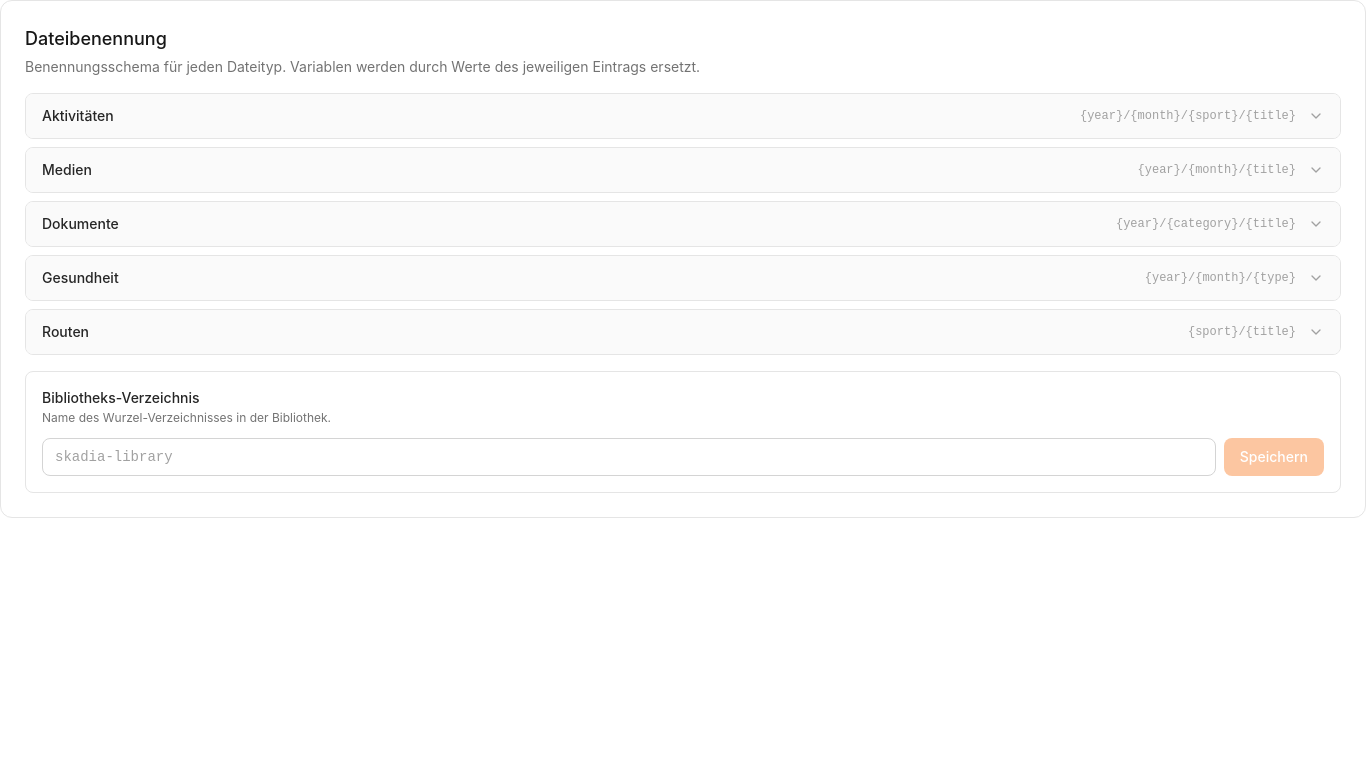
FileSchemaSettings — editable state from context › disables schema inputs when editable=false (admin_locked reason)
Note: Open a section by clicking its header via fireEvent (triggers React event system)
Click the button "Aktivitäten": (78, 116) [26,94,1340,138]
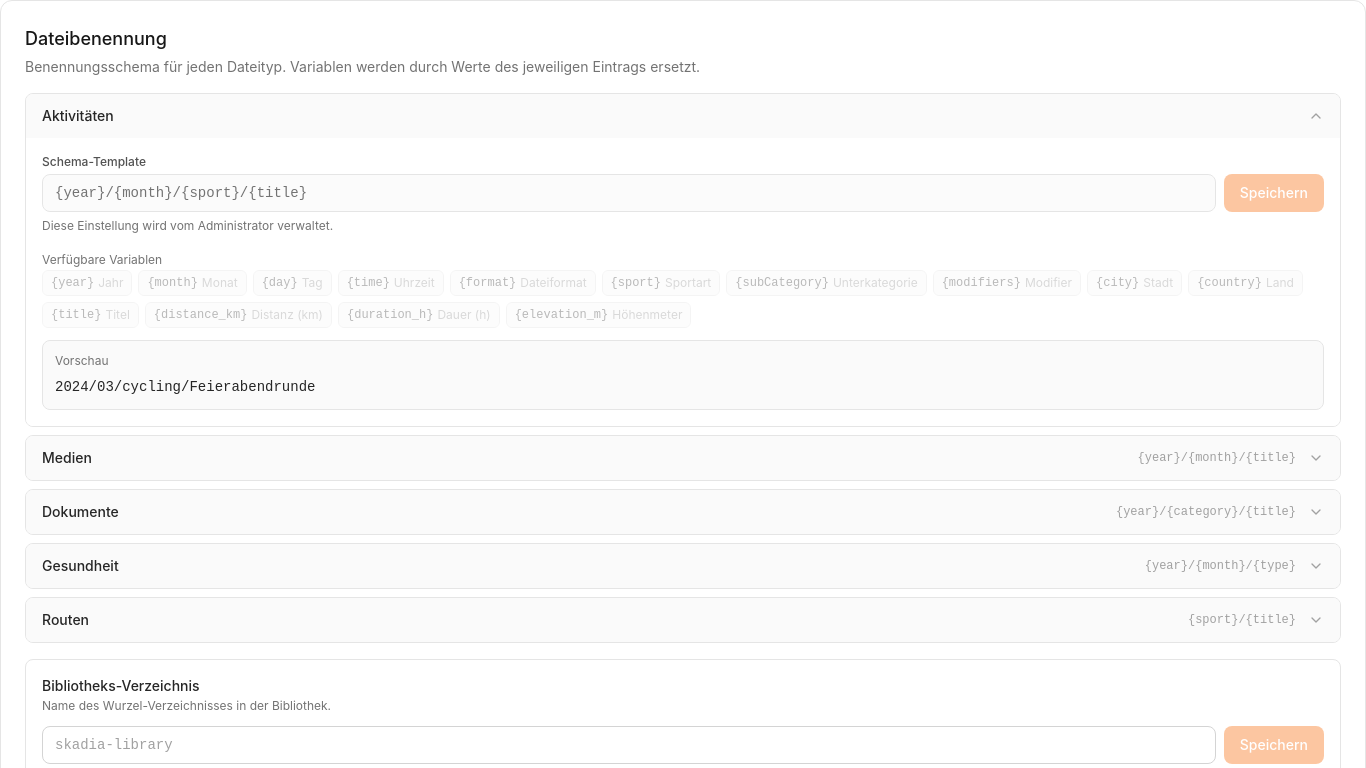
Result: the text "Diese Einstellung wird vom Administrator verwaltet." is shown at [42,218,333,233]
